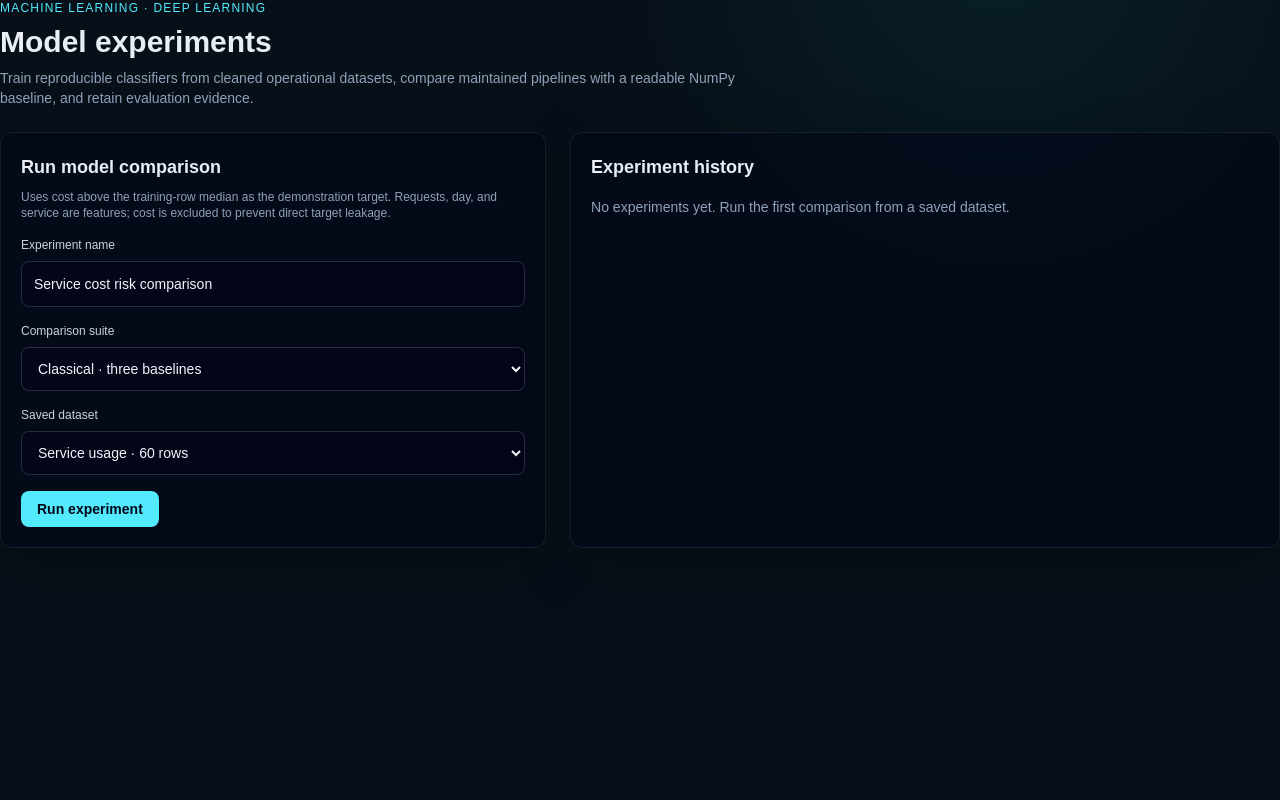
it: MachineLearningWorkspace › trains and renders model, evaluation, and interpretation evidence
This screenshot has width=1280, height=800.
Check: the text "No experiments yet" is shown, box [591,199,1010,215]
Click the button "Run experiment": x=90, y=509 [21,491,159,527]
(page scrolled)
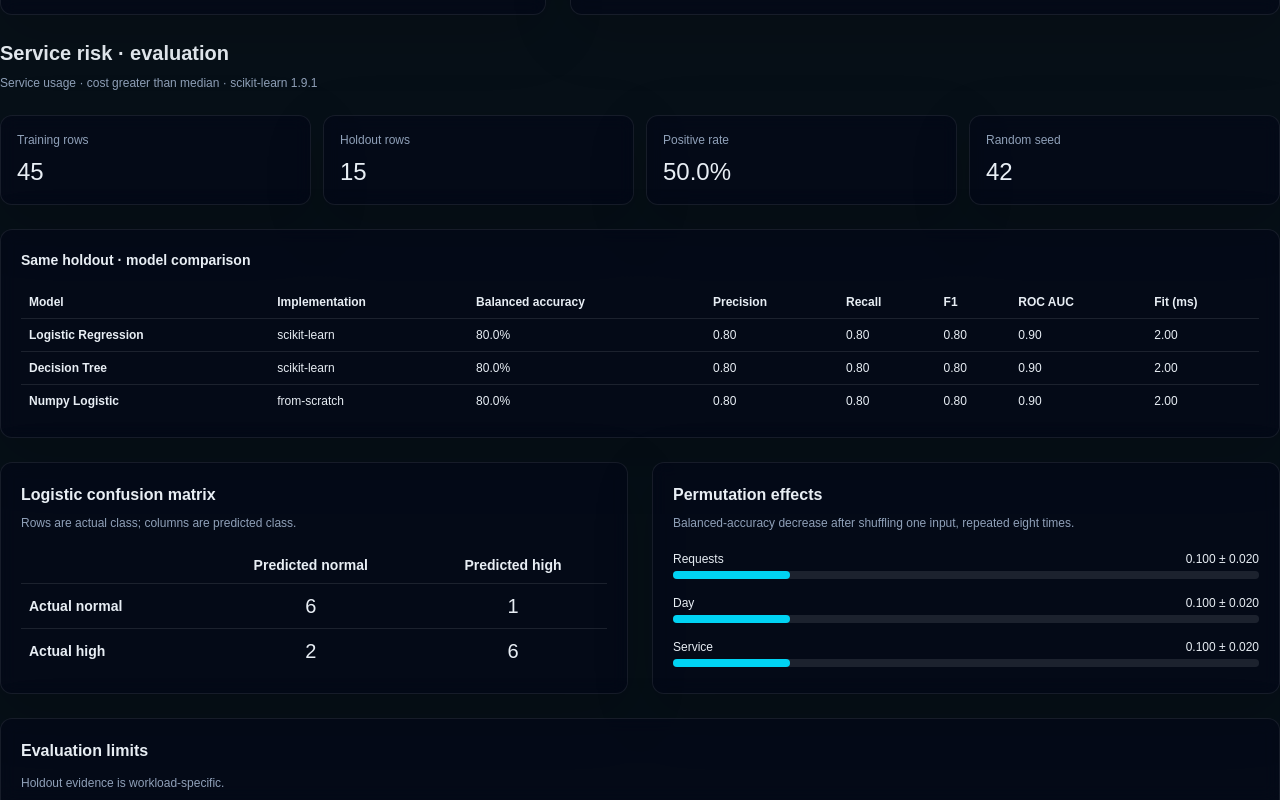
Check: the picture named "Permutation feature effects" is shown, box [673,551,1259,667]
Check: the column heading "numpy logistic" is shown, box [21,384,269,417]
